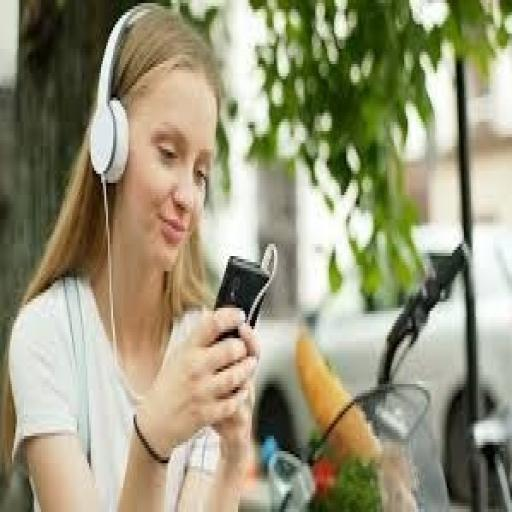listening_to_music: (5, 3, 262, 509)
